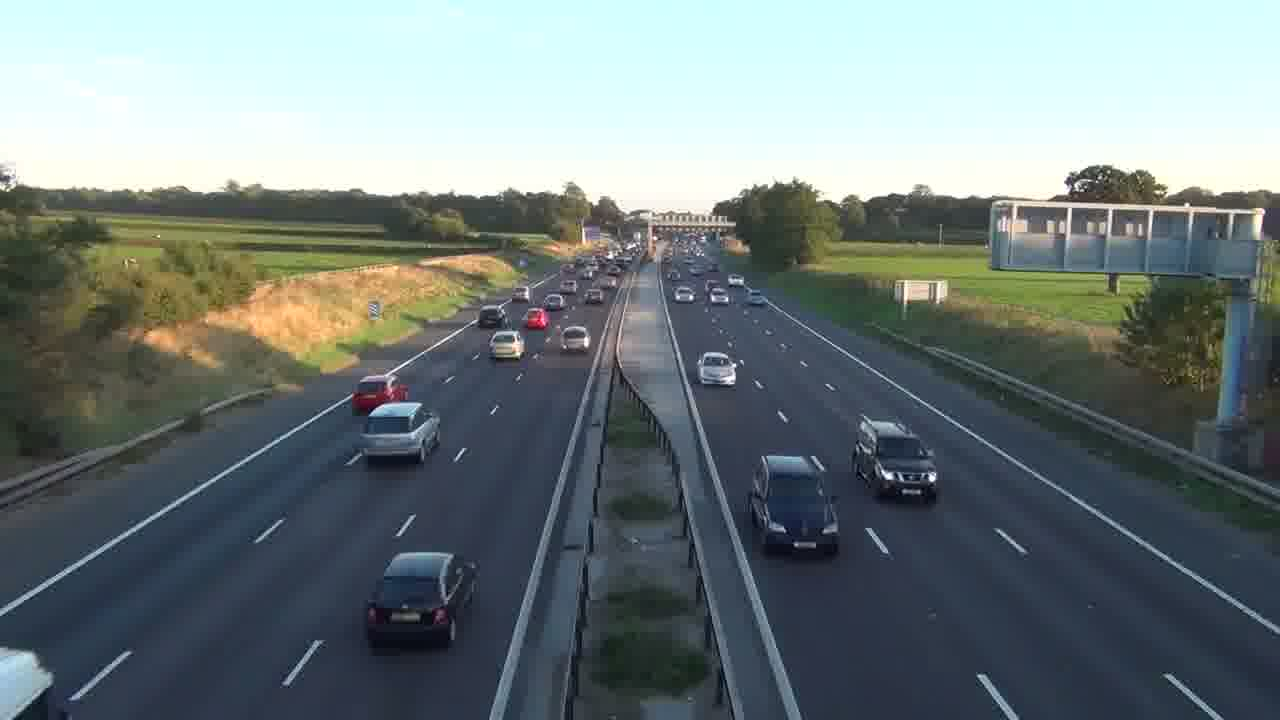car: (364, 551, 480, 651), (747, 454, 841, 557), (850, 414, 941, 505), (357, 400, 441, 464), (351, 373, 403, 415), (696, 351, 739, 387), (489, 329, 525, 362), (560, 324, 591, 354), (478, 305, 505, 328)
truck: (747, 454, 841, 557), (850, 414, 941, 505)
